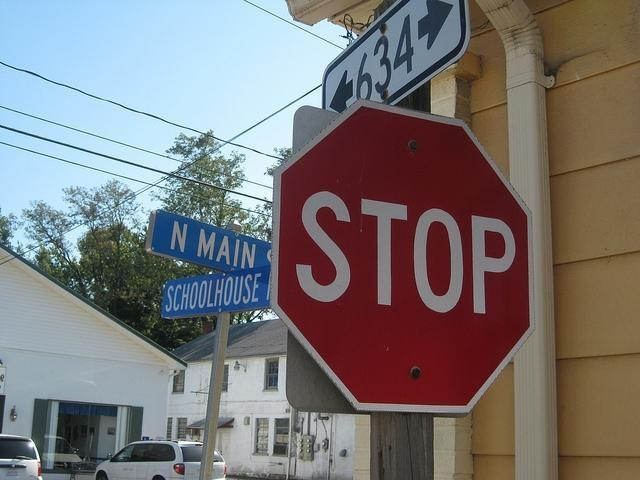car: (92, 442, 229, 474), (0, 434, 44, 480)
